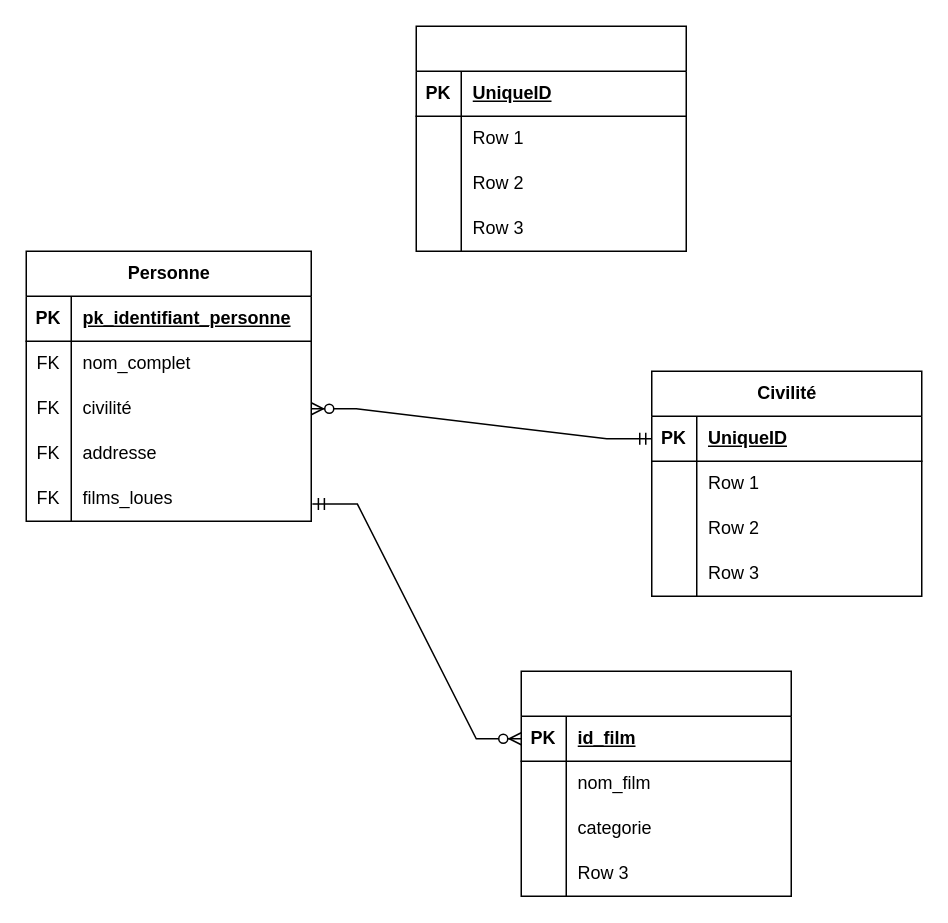
The diagram is 948 pixels wide and 923 high, and some of its shapes have lost their labels. The shapes that lost their labels are listed below. From the top down, each one's box as (x1, y1, x2, y2) in pixels, then its label:
(415, 25, 686, 251): Table
(520, 670, 791, 896): film_loue
